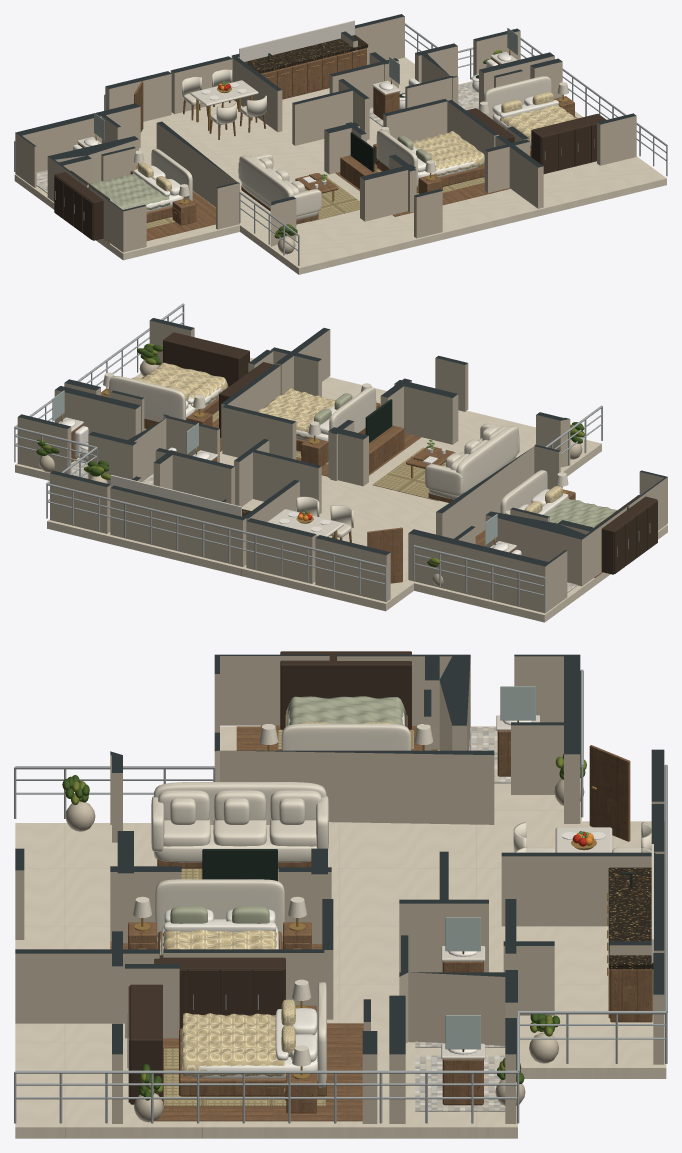
3 renders of one model, top to bottom at view 1: azimuth 30°, elevation 25°; view 2: azimuth 150°, elevation 25°; view 3: azimuth 270°, elevation 25°, orthographic. The views are drawn at different scales.
Parts seen in each view (by area): view 1: Source-traced internal and perimeter walls • Wall, Continuous apartment foundation, Soft jacquard duvet with folds.001, Backsplash, Soft jacquard duvet with folds.002, Deep green kitchen stone, Sofa back, Padded headboard, Soft jacquard duvet with folds, Full bedroom wood flooring.002, Fitted dark wardrobe, Fitted dark wardrobe.002 (+20 smaller); view 2: Source-traced internal and perimeter walls • Wall, Continuous apartment foundation, Fitted dark wardrobe, Sofa back, Padded headboard, Soft jacquard duvet with folds, Soft jacquard duvet with folds.001, Backsplash, Fitted dark wardrobe.002, Living patterned carpet, Soft jacquard duvet with folds.002, Padded headboard.001 (+16 smaller); view 3: Source-traced internal and perimeter walls • Wall, Continuous apartment foundation, Full bedroom wood flooring, Fitted dark wardrobe.002, Soft jacquard duvet with folds, Padded headboard.001, Deep green kitchen stone, Padded headboard.002, Oak entrance door, Fitted dark wardrobe, Soft jacquard duvet with folds.002, Bathroom mosaic floor (+34 smaller).
Part boxes in pixels (x1,y1,x2,y2): Source-traced internal and perimeter walls • Wall: (15,14,636,252); Continuous apartment foundation: (14,57,666,274); Soft jacquard duvet with folds.001: (412,131,484,175); Backsplash: (239,20,354,61); Soft jacquard duvet with folds.002: (90,173,170,209); Deep green kitchen stone: (244,35,368,72); Sofa back: (239,155,294,204); Padded headboard: (483,76,551,119); Soft jacquard duvet with folds: (498,104,576,143); Full bedroom wood flooring.002: (146,191,215,240); Fitted dark wardrobe: (531,113,606,170); Fitted dark wardrobe.002: (54,170,109,240); Source-traced internal and perimeter walls • Wall: (17,318,667,613); Continuous apartment foundation: (15,357,667,622); Fitted dark wardrobe: (163,332,249,386); Sofa back: (456,426,518,493); Padded headboard: (109,376,185,421); Soft jacquard duvet with folds: (142,362,228,411); Soft jacquard duvet with folds.001: (257,388,335,439); Backsplash: (110,475,241,516); Fitted dark wardrobe.002: (594,495,657,574); Living patterned carpet: (372,447,445,500); Soft jacquard duvet with folds.002: (544,498,616,527); Padded headboard.001: (329,387,376,432); Source-traced internal and perimeter walls • Wall: (15,654,664,1123); Continuous apartment foundation: (15,726,666,1138); Full bedroom wood flooring: (154,1023,363,1121); Fitted dark wardrobe.002: (280,651,411,729); Soft jacquard duvet with folds: (182,1013,284,1076); Padded headboard.001: (155,879,284,937); Deep green kitchen stone: (608,867,653,966); Padded headboard.002: (281,723,410,750); Oak entrance door: (589,745,630,841); Fitted dark wardrobe: (130,984,162,1104); Soft jacquard duvet with folds.002: (286,696,406,726); Bathroom mosaic floor: (415,1055,505,1111).
Bounding box in the file's own units: 14.2 × 1.7 × 9.54.
Materials: 26 (6 with a texture image).
